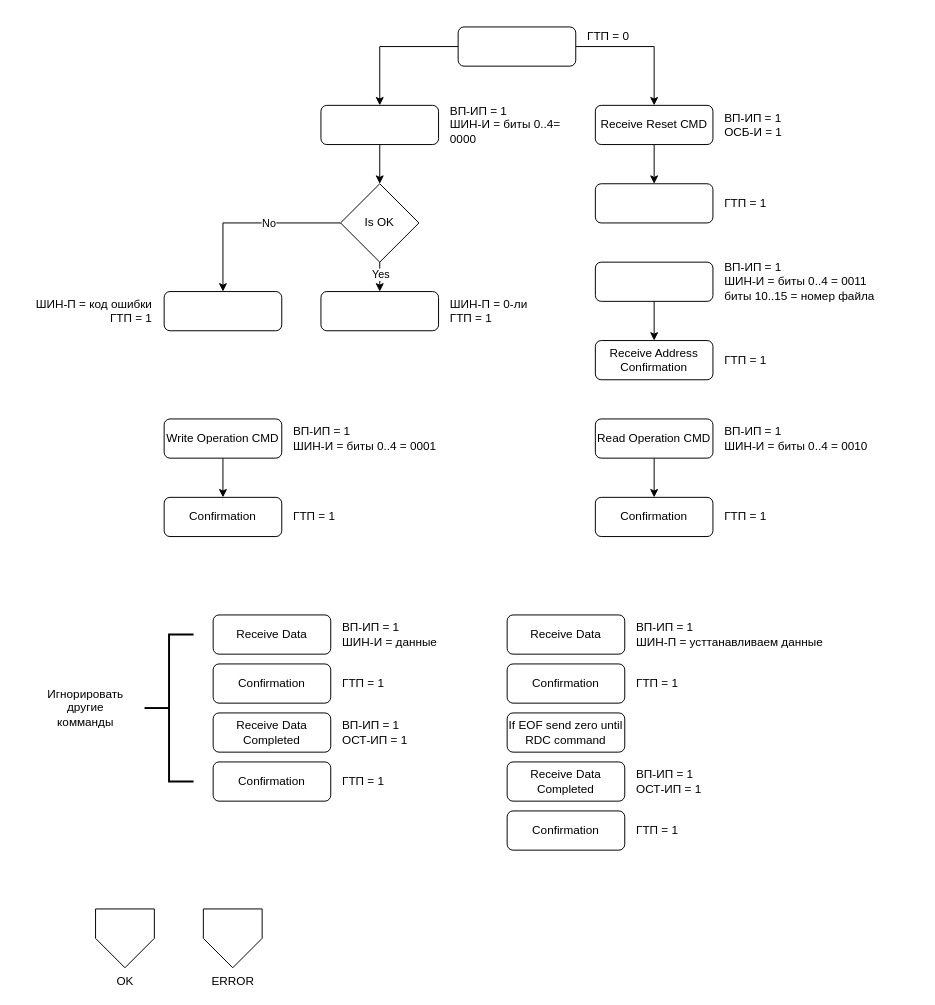
Some shapes in this 935 by 1005 pixel diagram are drawn without their labels. Here are the shapes that lost their labels. From the top down, the centre of each, then its label:
At [516,46]: "Receive IT".
At [379,124]: "Receive Check Status CMD".
At [653,203]: "Reset Confirmation".
At [653,281]: "Receive Address CMD".
At [222,311]: "Status Check ERR".
At [379,311]: "Status Check OK".
